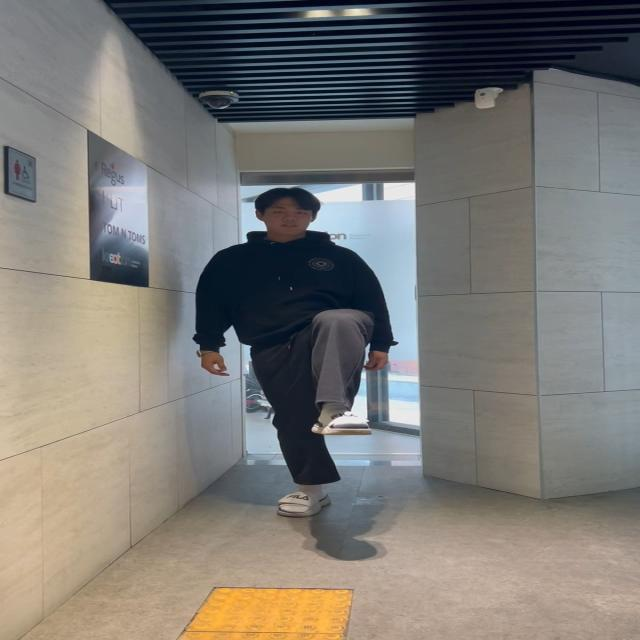knee: (311, 306, 372, 438)
